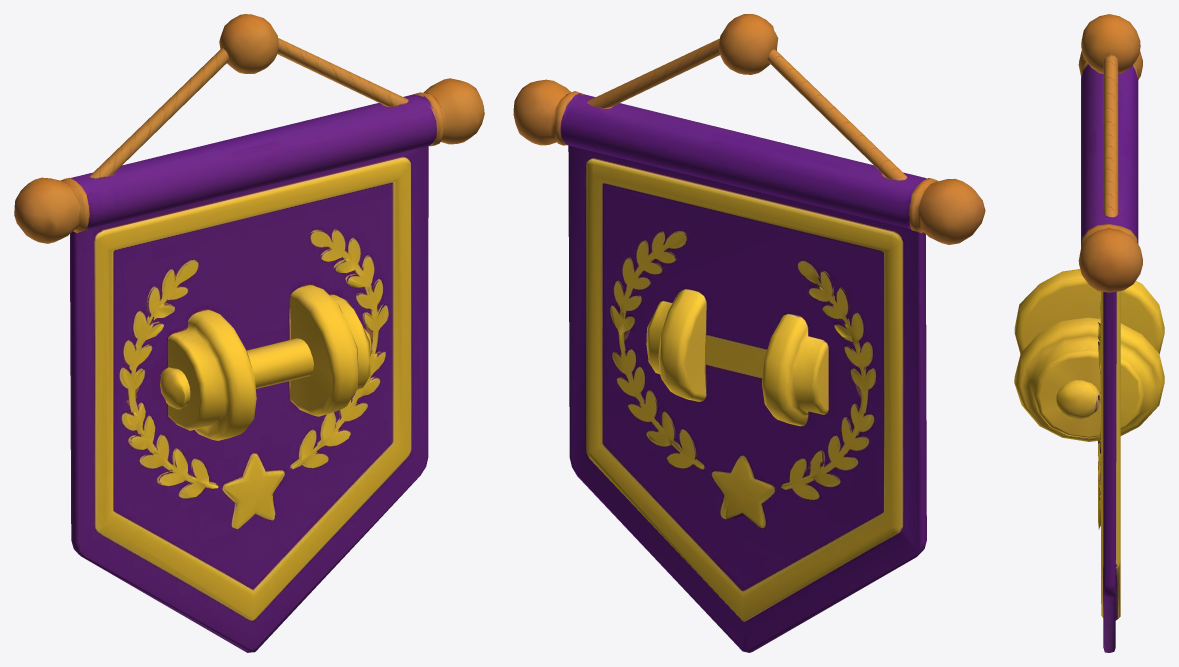
The model's file is gym-wall-mirror-banner.glb.
3 views of the same model, side by side, from view 1: azimuth 30°, elevation 25°; view 2: azimuth 150°, elevation 25°; view 3: azimuth 270°, elevation 25° (orthographic).
Bounding box in the file's own units: 0.7241 × 0.9507 × 0.2041.
Materials: 1 (1 with a texture image).
